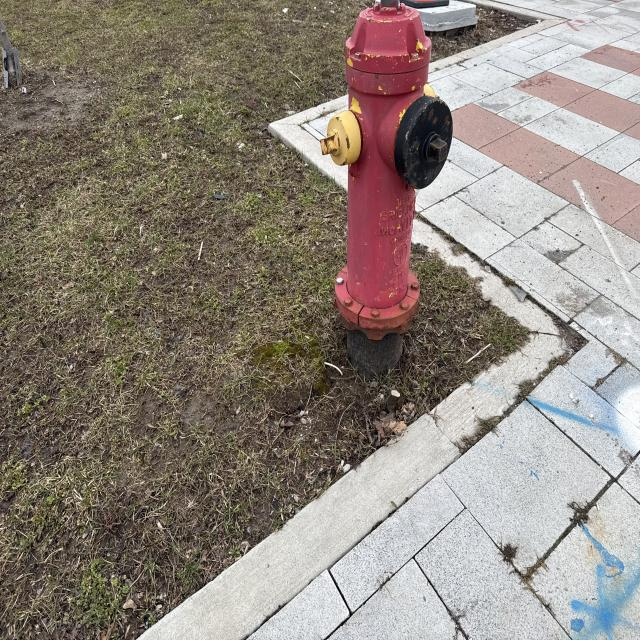Fire hydrant: (319, 0, 454, 342)
